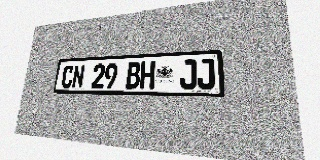2: (91, 63, 106, 89)
9: (104, 63, 118, 89)
B: (126, 62, 141, 89)
C: (61, 65, 74, 89)
H: (140, 61, 155, 89)
J: (197, 58, 215, 89), (180, 59, 196, 89)
N: (71, 64, 85, 89)
